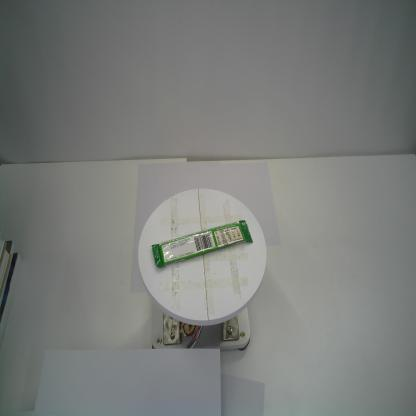Chocolate: (150, 219, 254, 270)
